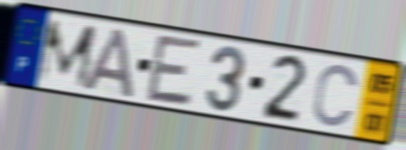2: (261, 52, 310, 126)
3: (203, 44, 246, 114)
A: (80, 25, 136, 101)
C: (310, 62, 362, 130)
E: (143, 32, 204, 110)
M: (34, 18, 100, 91)
